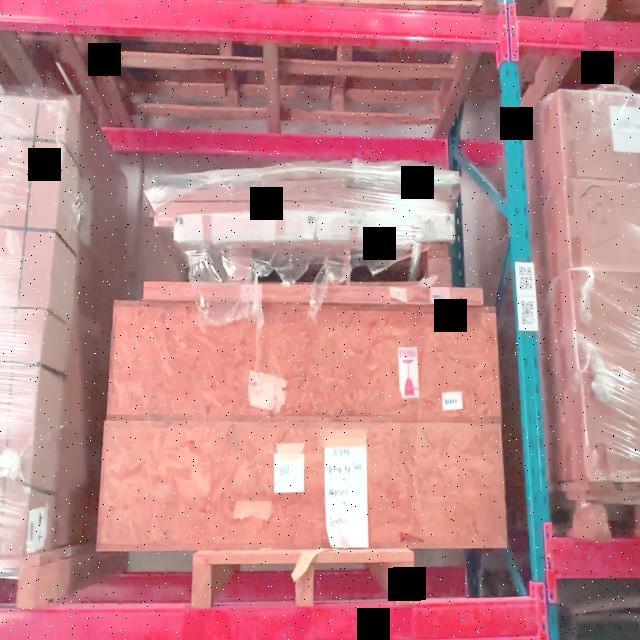box: (106, 424, 502, 538), (114, 304, 498, 412), (196, 557, 412, 603)
